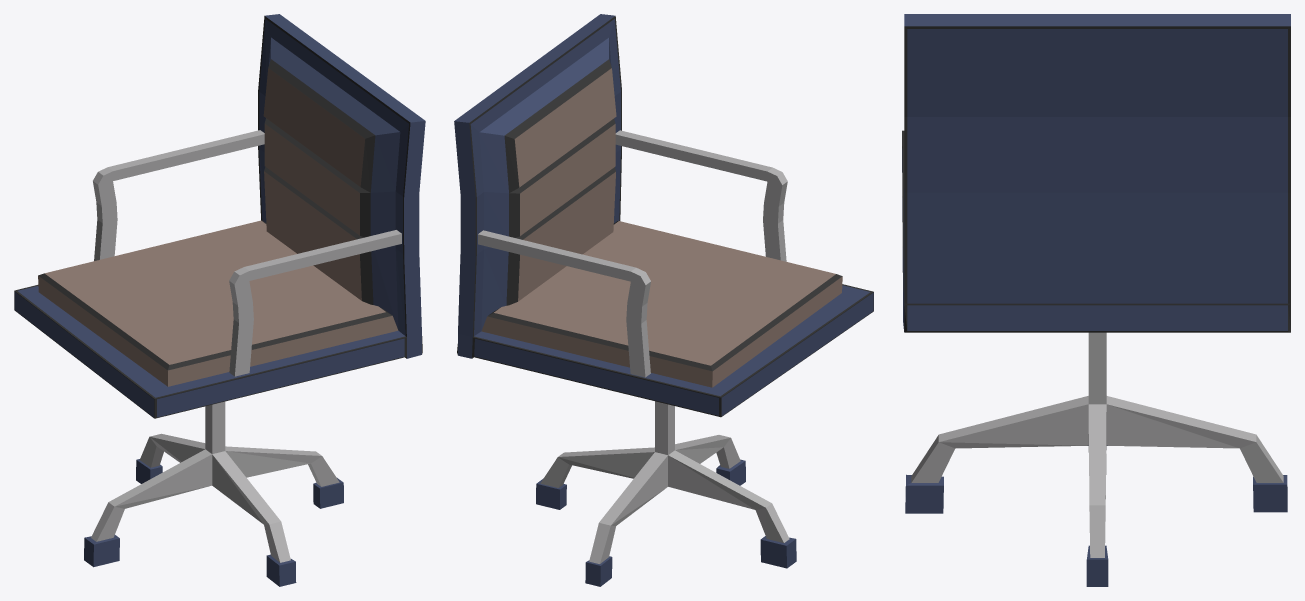
Rendered from Chair_Study.fbx.
The picture shows the model from 3 angles, left to right: view 1: azimuth 30°, elevation 25°; view 2: azimuth 150°, elevation 25°; view 3: azimuth 270°, elevation 25°; orthographic projection. The views are drawn at different scales.
Visible parts, largest first — view 1: Chair; view 2: Chair; view 3: Chair.
Part boxes in pixels (left/top/right/bottom): Chair: left=14, top=14, right=425, bottom=586; Chair: left=454, top=14, right=873, bottom=586; Chair: left=902, top=14, right=1290, bottom=586.
Bounding box in the file's own units: 70.77 × 108 × 66.21.
